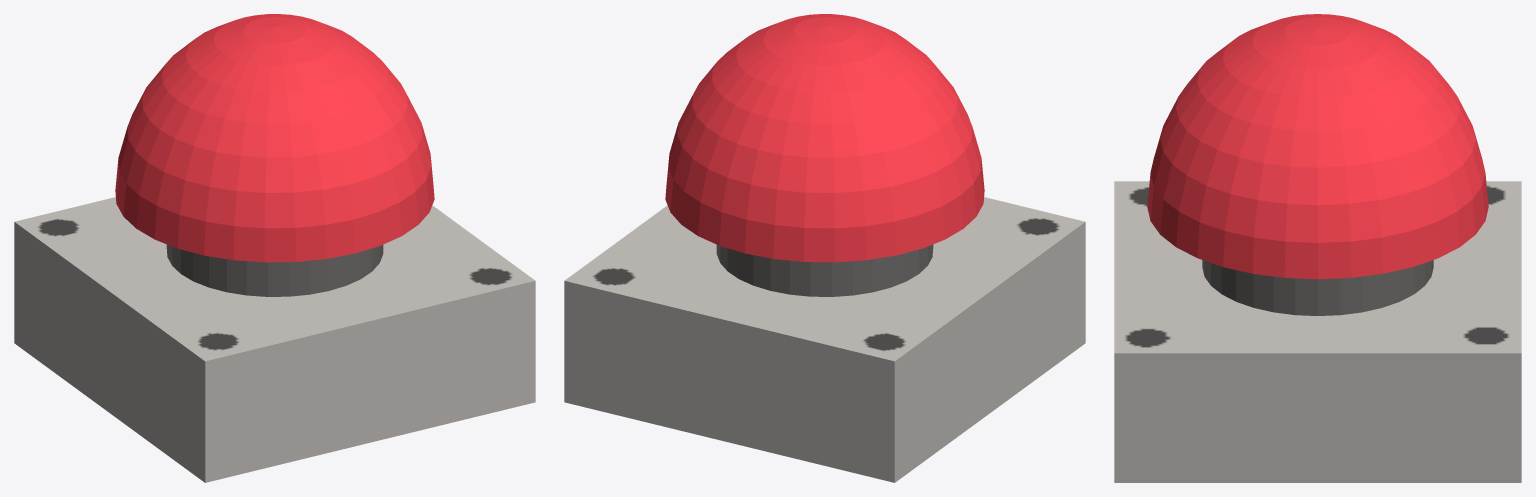
Rendered from Button.obj.
3 renders of one model, left to right at view 1: azimuth 30°, elevation 25°; view 2: azimuth 150°, elevation 25°; view 3: azimuth 270°, elevation 25°, orthographic. The views are drawn at different scales.
Visible parts, largest first — view 1: Cube; view 2: Cube; view 3: Cube.
Boxes of the visible parts, <box> form: Cube: <box>14,14,535,482</box>; Cube: <box>564,14,1085,482</box>; Cube: <box>1114,14,1521,482</box>.
Bounding box in the file's own units: 1 × 1 × 1.
1 material, 1 textured.
